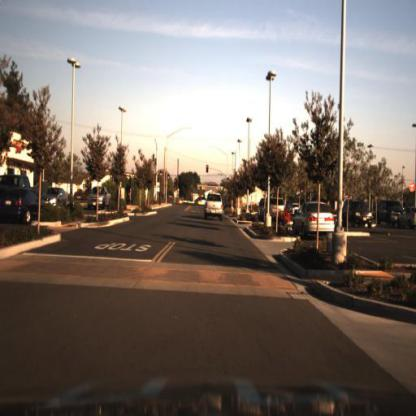car: (294, 199, 340, 245), (1, 186, 40, 227), (343, 199, 376, 230), (82, 186, 118, 213), (1, 164, 30, 197), (39, 185, 73, 213), (204, 188, 227, 228), (263, 195, 287, 222), (375, 199, 397, 226)
trafficLight-Red: (205, 163, 211, 175), (173, 178, 178, 188)
